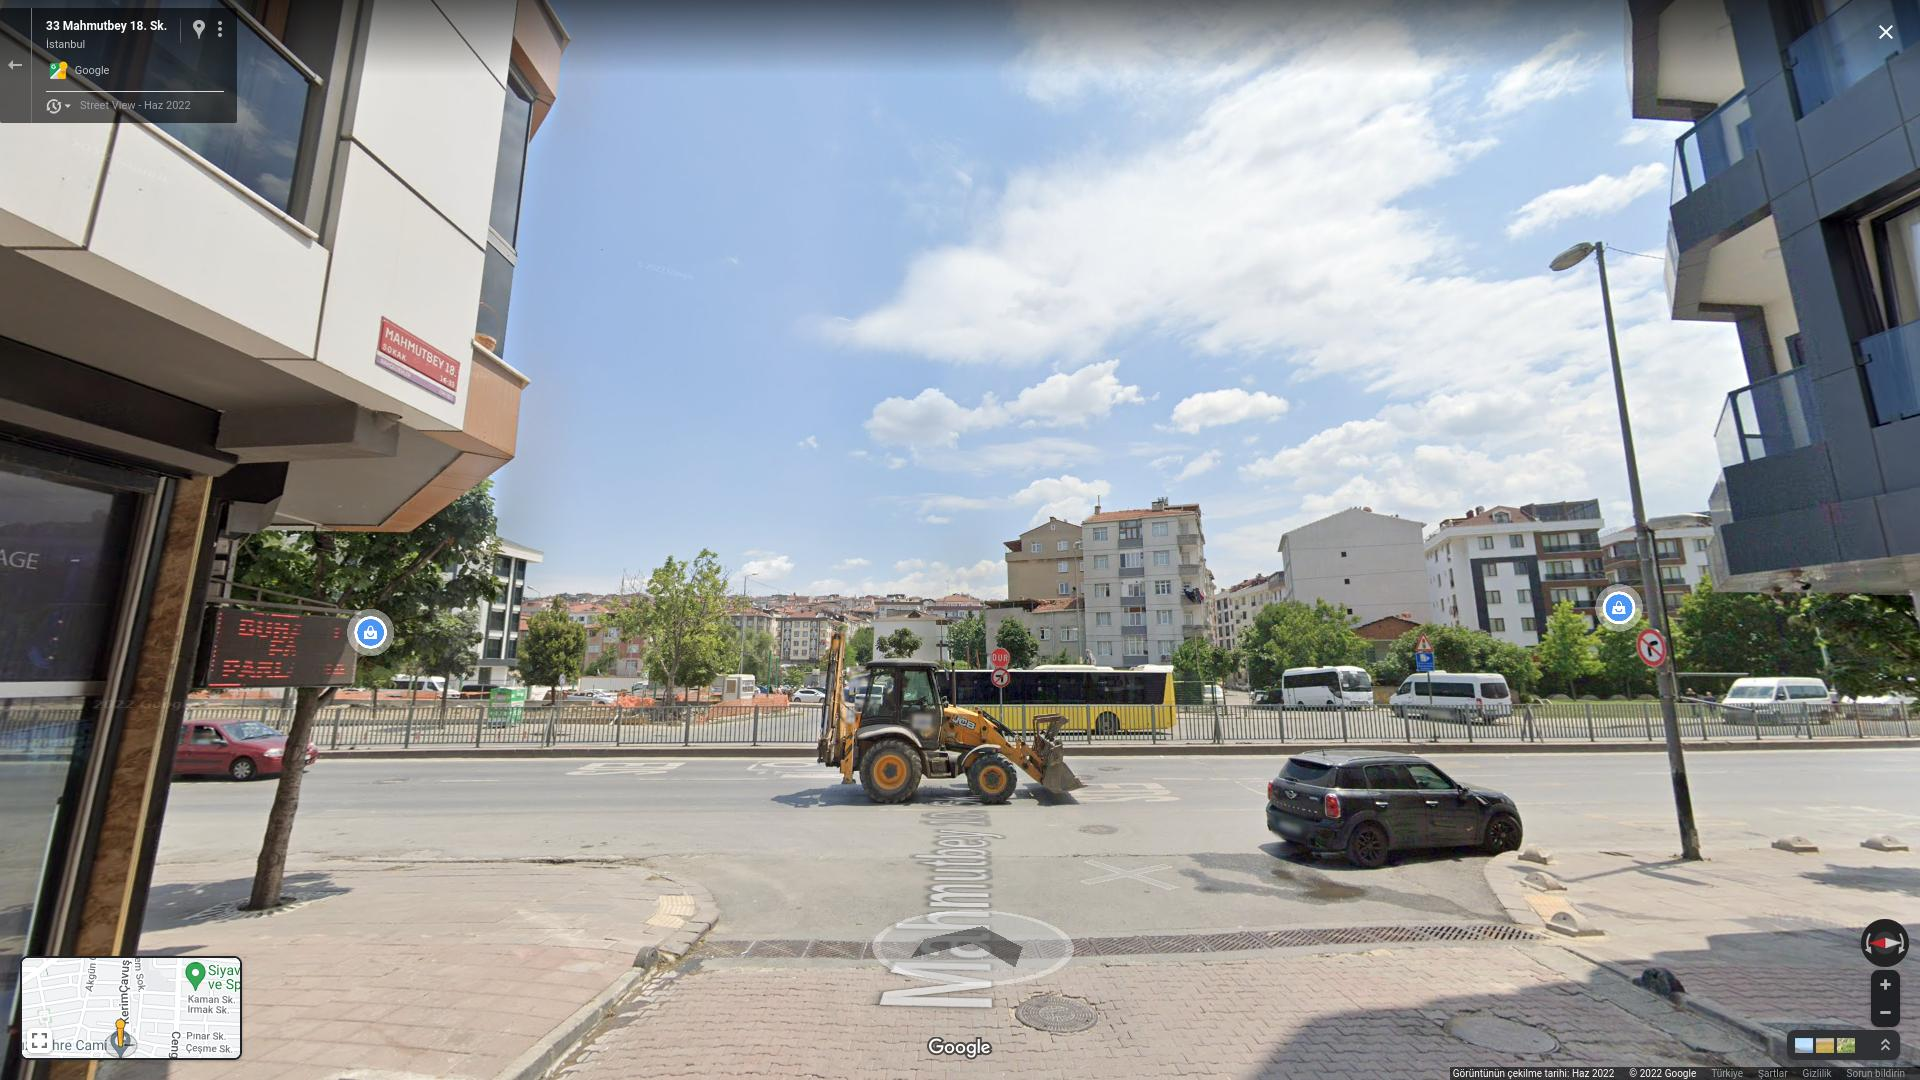leftturnsareforbidden: (992, 669, 1010, 688)
rightturnsareforbidden: (1636, 626, 1665, 666)
stop: (992, 649, 1009, 666)
